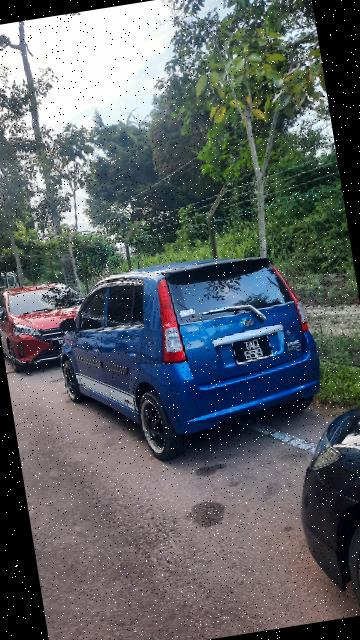License_Plate: (229, 331, 279, 370)
car: (45, 237, 347, 479)
